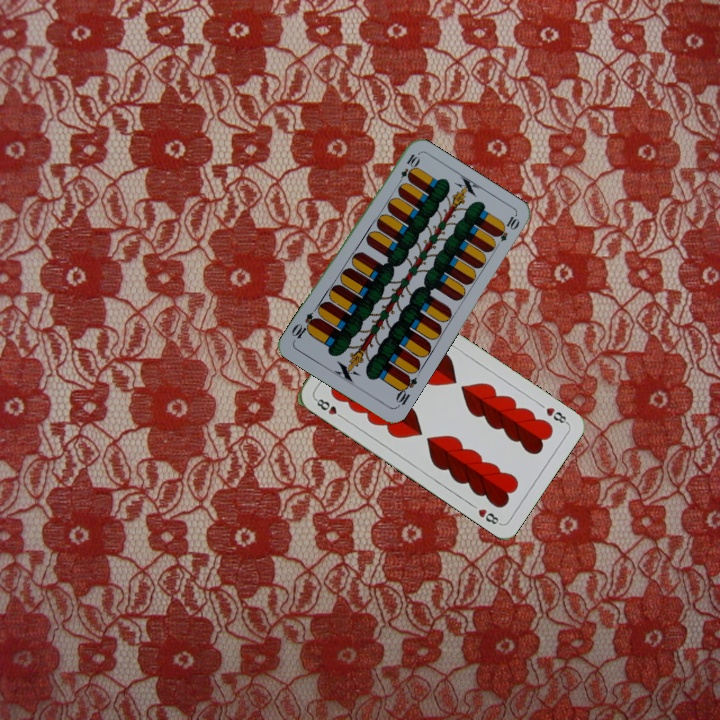E10: (391, 371, 420, 410), (394, 150, 421, 188)
H8: (311, 394, 347, 422), (542, 403, 571, 426)
